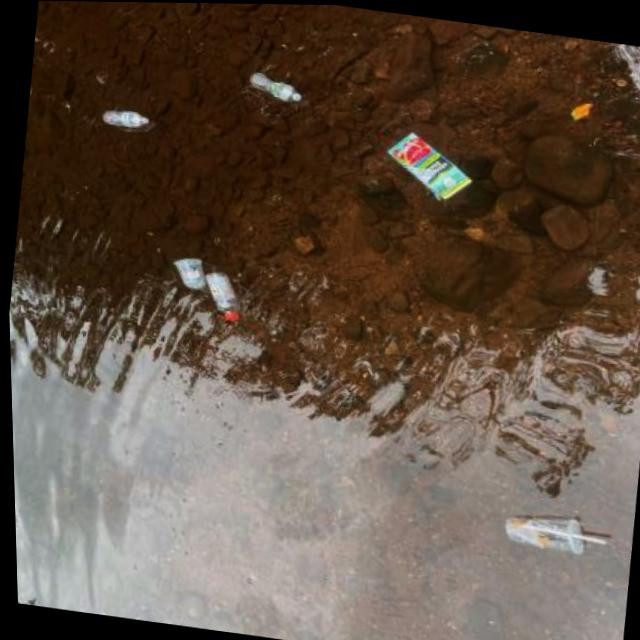Cardboard: (375, 119, 486, 213)
Plastic: (488, 501, 613, 562), (191, 266, 247, 325), (243, 65, 309, 109), (92, 99, 153, 139), (162, 245, 209, 295)
